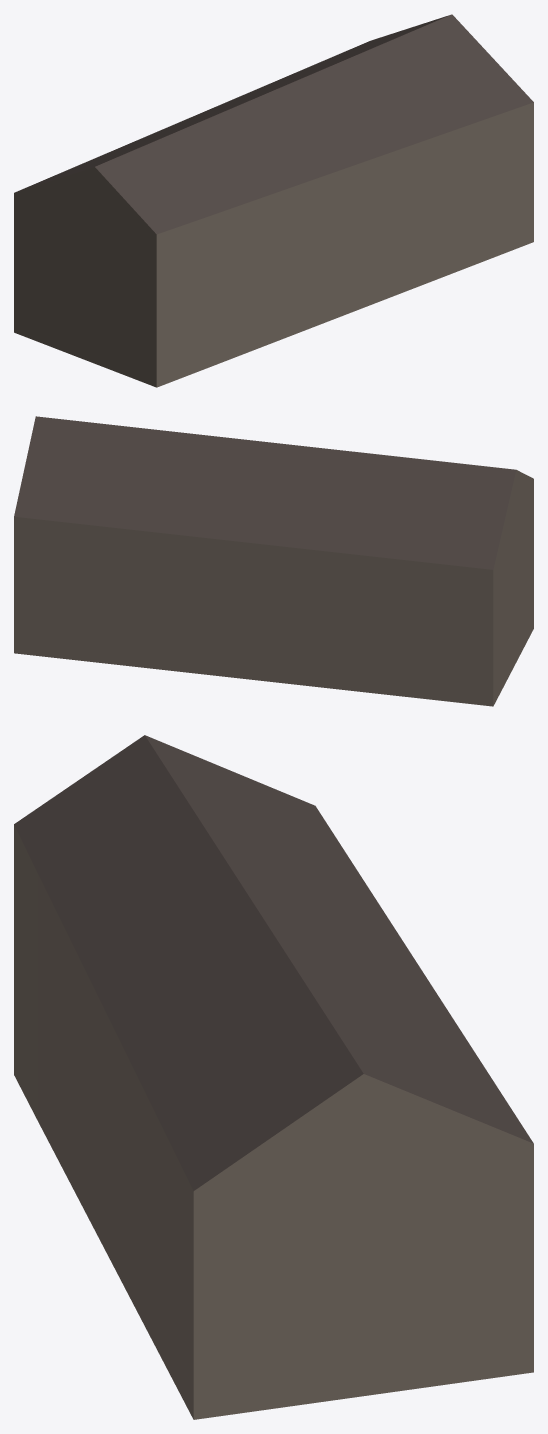
3 views of the same model, one above another, from view 1: azimuth 30°, elevation 25°; view 2: azimuth 150°, elevation 25°; view 3: azimuth 270°, elevation 25° (orthographic). The views are drawn at different scales.
Parts seen in each view (by area): view 1: HP-w1513026715; view 2: HP-w1513026715; view 3: HP-w1513026715.
Boxes of the visible parts, x1,y1,x2,y2 form: HP-w1513026715: (14,14,533,387); HP-w1513026715: (14,416,533,706); HP-w1513026715: (14,735,533,1419).
Bounding box in the file's own units: 32.54 × 12.69 × 18.55.
